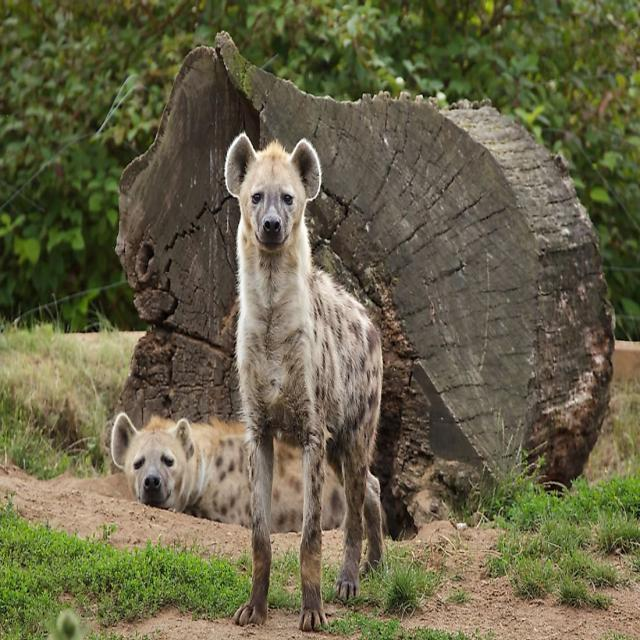Hyena: (226, 131, 387, 602), (109, 411, 352, 548)
